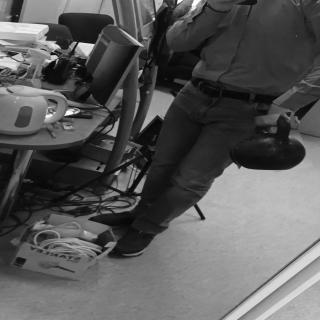kettlebell: (225, 115, 310, 175)
